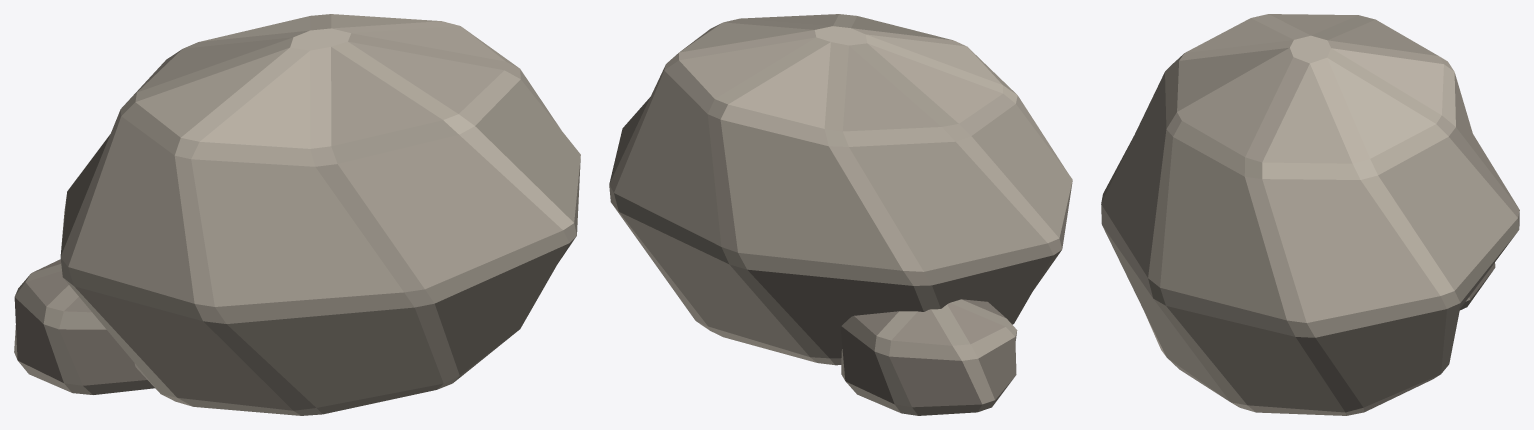
Rendered from SM_Kit_pedra_c.fbx.
3 views of the same model, side by side, from view 1: azimuth 30°, elevation 25°; view 2: azimuth 150°, elevation 25°; view 3: azimuth 270°, elevation 25° (orthographic). The views are drawn at different scales.
Visible parts, largest first — view 1: SM_Kit_pedra_c; view 2: SM_Kit_pedra_c; view 3: SM_Kit_pedra_c.
Part boxes in pixels (x1=…): SM_Kit_pedra_c: x1=14, y1=14, x2=580, y2=415; SM_Kit_pedra_c: x1=609, y1=14, x2=1072, y2=415; SM_Kit_pedra_c: x1=1101, y1=14, x2=1519, y2=415.
Size of what is drawn, in the model's own units: 328 by 220 by 251.
